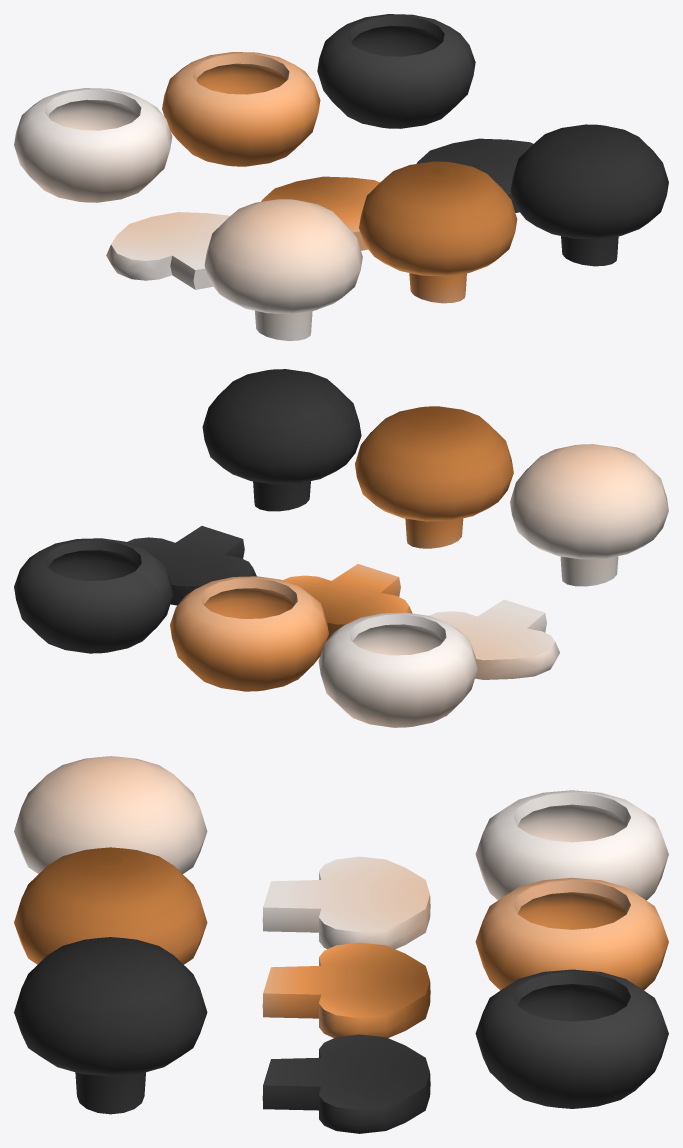
File: mushroom.fbx
3 views of the same model, one above another, from view 1: azimuth 30°, elevation 25°; view 2: azimuth 150°, elevation 25°; view 3: azimuth 270°, elevation 25° (orthographic). The views are drawn at different scales.
Parts seen in each view (by area): view 1: mushroom_Cooked, mushroom_Raw, mushroom_Burnt, mushroom_Hollow_Raw, mushroom_Hollow_Burnt, mushroom_Hollow_Cooked, mushroom_Sliced_Raw, mushroom_Sliced_Cooked, mushroom_Sliced_Burnt; view 2: mushroom_Burnt, mushroom_Raw, mushroom_Cooked, mushroom_Hollow_Burnt, mushroom_Hollow_Raw, mushroom_Hollow_Cooked, mushroom_Sliced_Raw, mushroom_Sliced_Burnt, mushroom_Sliced_Cooked; view 3: mushroom_Burnt, mushroom_Hollow_Burnt, mushroom_Hollow_Cooked, mushroom_Raw, mushroom_Cooked, mushroom_Hollow_Raw, mushroom_Sliced_Burnt, mushroom_Sliced_Cooked, mushroom_Sliced_Raw.
Part boxes in pixels (left/top/right/bottom): mushroom_Cooked: left=359, top=161, right=517, bottom=303; mushroom_Raw: left=204, top=199, right=362, bottom=340; mushroom_Burnt: left=510, top=124, right=668, bottom=266; mushroom_Hollow_Raw: left=14, top=88, right=172, bottom=202; mushroom_Hollow_Burnt: left=317, top=14, right=475, bottom=128; mushroom_Hollow_Cooked: left=162, top=52, right=320, bottom=166; mushroom_Sliced_Raw: left=106, top=212, right=229, bottom=289; mushroom_Sliced_Cooked: left=261, top=176, right=379, bottom=250; mushroom_Sliced_Burnt: left=416, top=138, right=533, bottom=212; mushroom_Burnt: left=202, top=369, right=361, bottom=511; mushroom_Raw: left=510, top=444, right=668, bottom=586; mushroom_Cooked: left=355, top=406, right=513, bottom=548; mushroom_Hollow_Burnt: left=14, top=538, right=172, bottom=653; mushroom_Hollow_Raw: left=318, top=612, right=477, bottom=727; mushroom_Hollow_Cooked: left=170, top=576, right=328, bottom=691; mushroom_Sliced_Raw: left=429, top=599, right=559, bottom=679; mushroom_Sliced_Burnt: left=126, top=526, right=256, bottom=605; mushroom_Sliced_Cooked: left=283, top=564, right=412, bottom=640; mushroom_Burnt: left=14, top=937, right=207, bottom=1114; mushroom_Hollow_Burnt: left=475, top=969, right=668, bottom=1108; mushroom_Hollow_Cooked: left=475, top=877, right=668, bottom=990; mushroom_Raw: left=14, top=756, right=207, bottom=873; mushroom_Cooked: left=14, top=847, right=207, bottom=964; mushroom_Hollow_Raw: left=475, top=790, right=668, bottom=900; mushroom_Sliced_Burnt: left=262, top=1034, right=430, bottom=1133; mushroom_Sliced_Cooked: left=262, top=942, right=430, bottom=1037; mushroom_Sliced_Raw: left=262, top=856, right=430, bottom=949.
Bounding box in the file's own units: 2.57 × 2.71 × 0.6933.
Materials: 1 (1 with a texture image).
